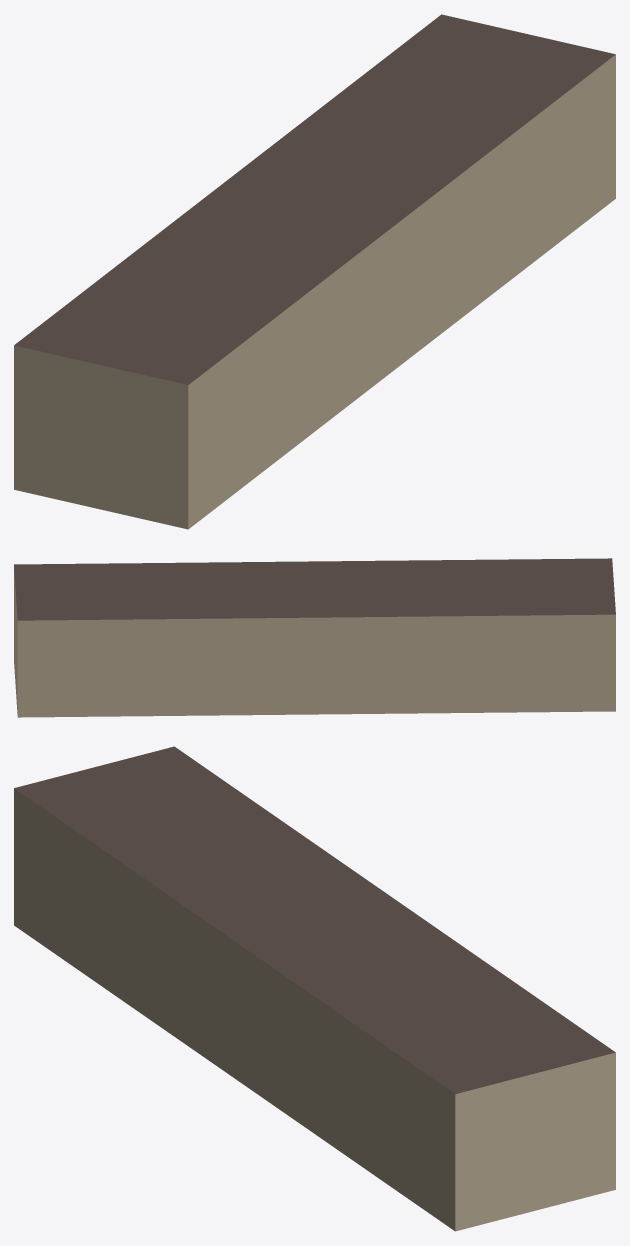
The picture shows the model from 3 angles, top to bottom: view 1: azimuth 30°, elevation 25°; view 2: azimuth 150°, elevation 25°; view 3: azimuth 270°, elevation 25°; orthographic projection. The views are drawn at different scales.
Parts seen in each view (by area): view 1: HP-w369237935; view 2: HP-w369237935; view 3: HP-w369237935.
Part boxes in pixels (x1,y1,x2,y2): HP-w369237935: (14,14,615,529); HP-w369237935: (14,558,615,717); HP-w369237935: (14,746,615,1231).
Bounding box in the file's own units: 48.9 × 9 × 35.77.
